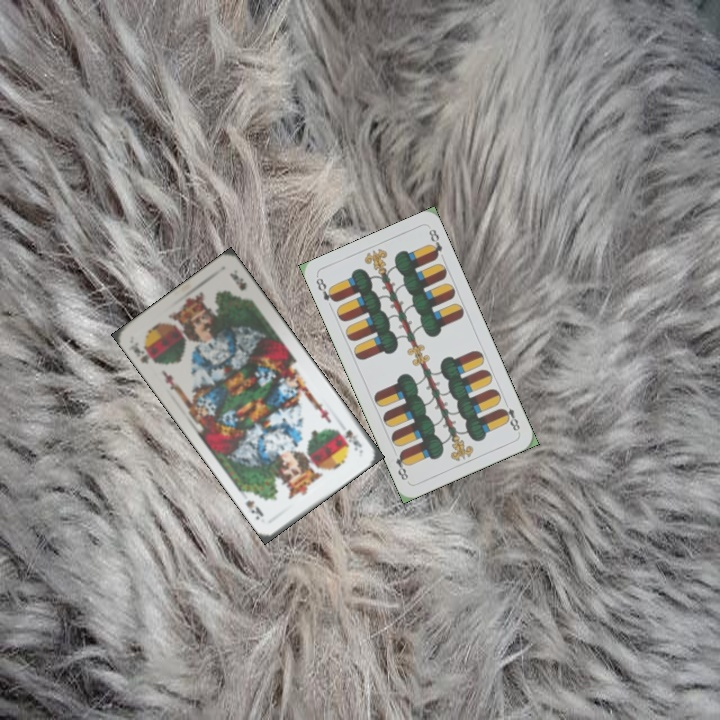E8: (497, 397, 522, 434), (312, 274, 339, 305)
SK: (129, 342, 160, 366), (340, 425, 365, 453)
